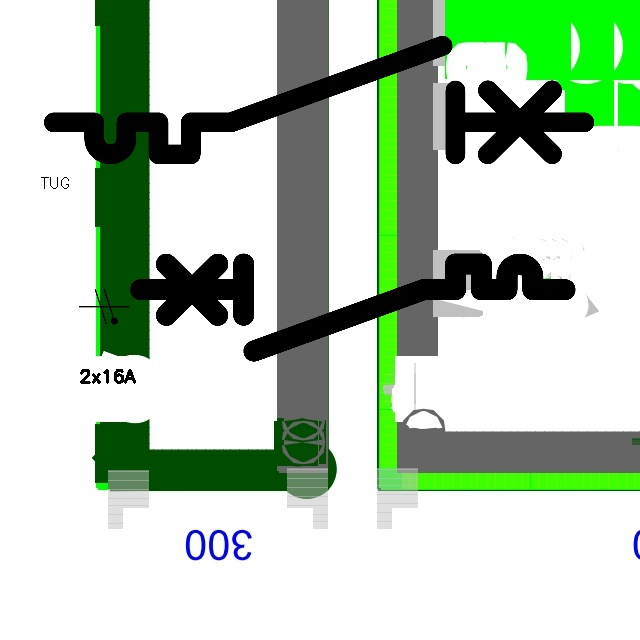interruptor_termomagnetico: (40, 32, 598, 168), (129, 253, 575, 362)
